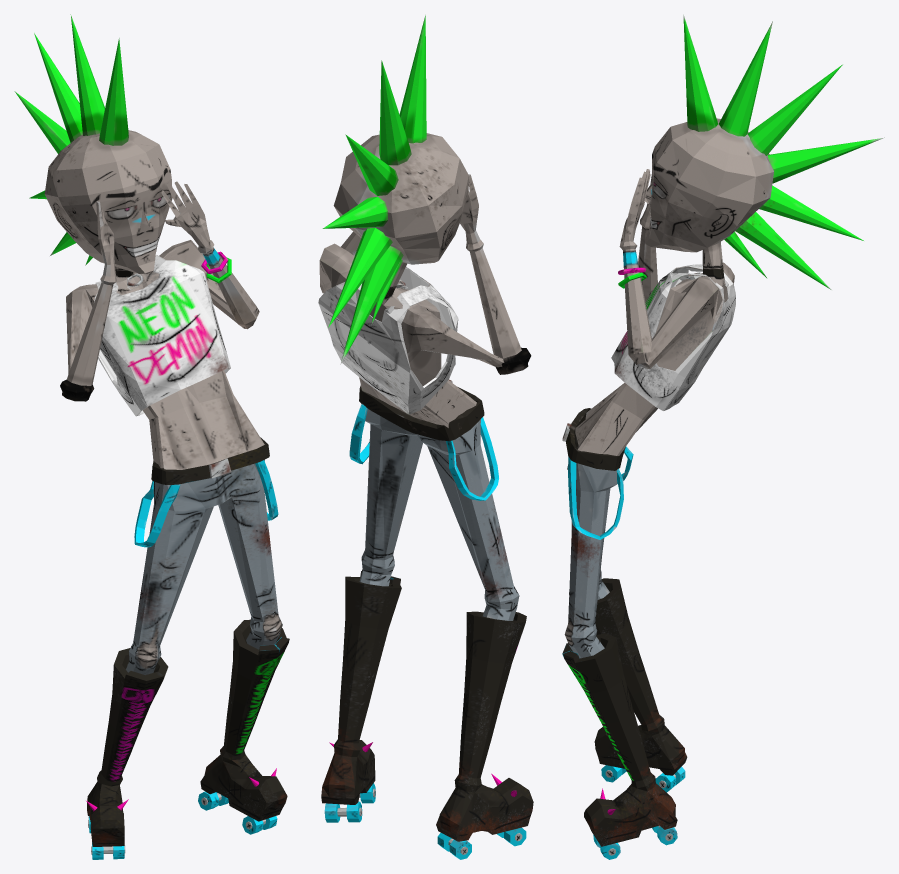
File: punkAnimation_000017.obj
3 views of the same model, side by side, from view 1: azimuth 30°, elevation 25°; view 2: azimuth 150°, elevation 25°; view 3: azimuth 270°, elevation 25° (orthographic). The views are drawn at different scales.
Parts seen in each view (by area): view 1: Cube.004_Cube.003; view 2: Cube.004_Cube.003; view 3: Cube.004_Cube.003.
Part boxes in pixels (x1,y1,x2,y2): Cube.004_Cube.003: (14,14,289,859); Cube.004_Cube.003: (318,15,533,859); Cube.004_Cube.003: (562,15,884,859).
Bounding box in the file's own units: 1.93 × 7.26 × 2.69.
